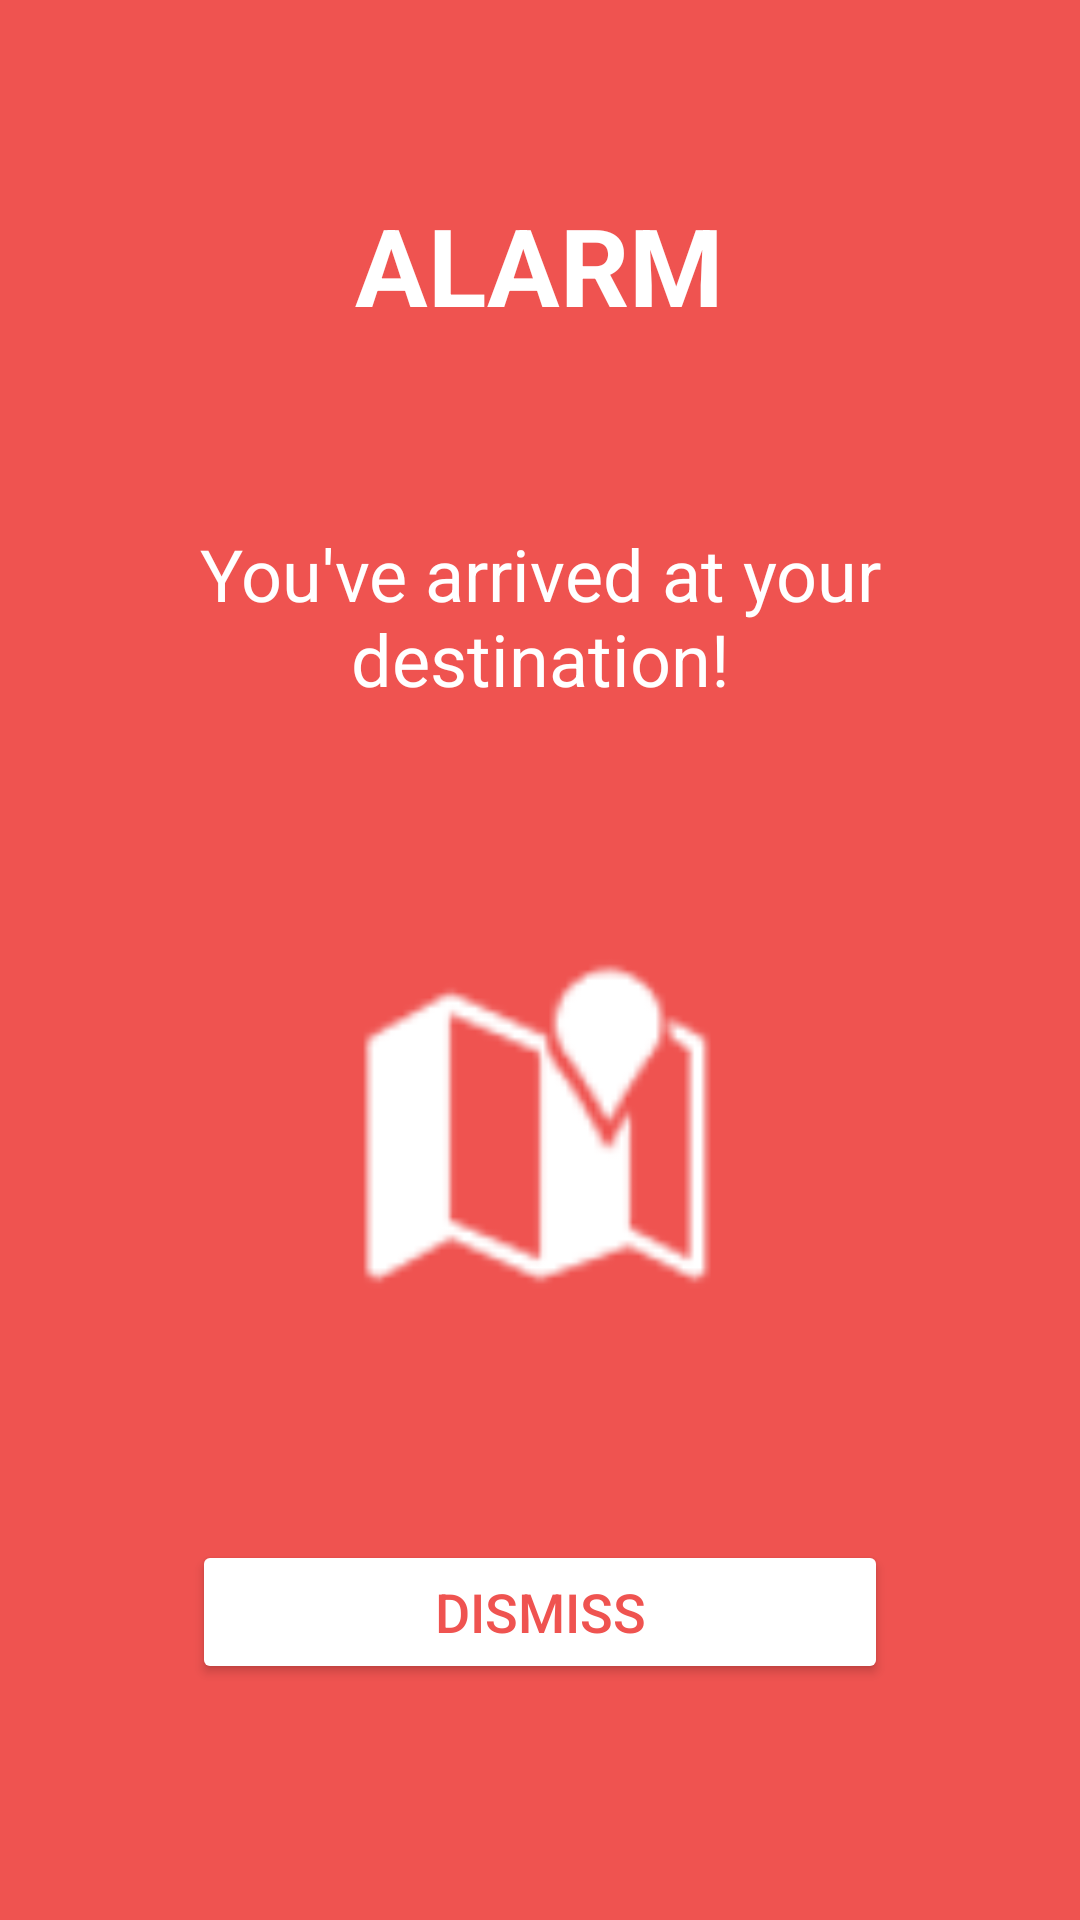

Icon click points for this 1080 × 1920 phone screenshot, format [x,y]:
map: [536,1124]
